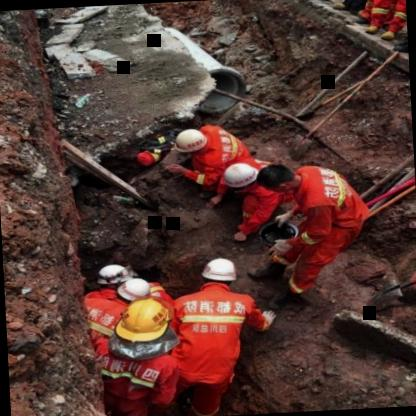head: (256, 162, 298, 197)
helmet: (118, 298, 172, 345), (214, 159, 263, 193), (167, 126, 214, 158), (196, 254, 239, 286), (92, 260, 131, 292), (115, 275, 154, 302)
